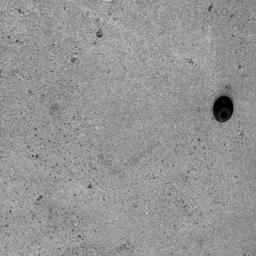FOD: (210, 95, 241, 125)
